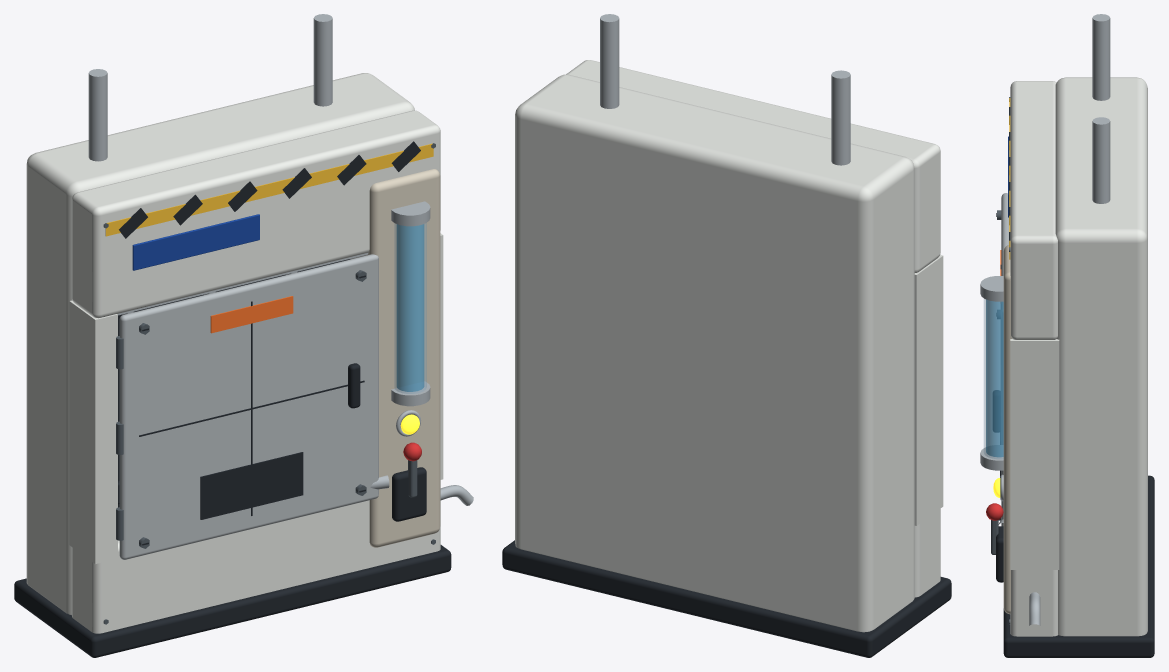
Rendered from water-recycler.glb.
3 views of the same model, side by side, from view 1: azimuth 30°, elevation 25°; view 2: azimuth 150°, elevation 25°; view 3: azimuth 270°, elevation 25° (orthographic). The views are drawn at different scales.
Visible parts, largest first — view 1: water-recycler-hull-white, access_panel-panel-grey, water-recycler-hull-cream, water-recycler-dark-polymer, water-recycler-aluminium, access_panel-dark-polymer, water-recycler-glass, flow_water-water, water-recycler-nasa-blue, water-recycler-hazard-yellow, access_panel-safety-orange, access_panel-dark-steel; view 2: water-recycler-hull-white, water-recycler-dark-polymer, water-recycler-aluminium; view 3: water-recycler-hull-white, water-recycler-dark-polymer, water-recycler-aluminium, water-recycler-glass, water-recycler-hull-cream, flow_water-water, access_panel-panel-grey, outlet-aluminium, access_panel-dark-polymer.
Boxes of the visible parts, x1,y1,x2,y2 form: water-recycler-hull-white: [26, 73, 443, 633]; access_panel-panel-grey: [119, 254, 378, 559]; water-recycler-hull-cream: [366, 169, 440, 547]; water-recycler-dark-polymer: [14, 141, 451, 657]; water-recycler-aluminium: [88, 14, 430, 489]; access_panel-dark-polymer: [139, 301, 364, 519]; water-recycler-glass: [394, 223, 426, 393]; flow_water-water: [396, 224, 424, 391]; water-recycler-nasa-blue: [132, 214, 259, 270]; water-recycler-hazard-yellow: [105, 143, 433, 236]; access_panel-safety-orange: [210, 296, 293, 333]; access_panel-dark-steel: [116, 336, 123, 540]; water-recycler-hull-white: [515, 60, 943, 632]; water-recycler-dark-polymer: [502, 540, 951, 657]; water-recycler-aluminium: [600, 14, 850, 165]; water-recycler-hull-white: [1010, 77, 1147, 636]; water-recycler-dark-polymer: [996, 107, 1154, 657]; water-recycler-aluminium: [980, 14, 1110, 524]; water-recycler-glass: [984, 299, 1003, 458]; water-recycler-hull-cream: [1003, 245, 1012, 614]; flow_water-water: [986, 299, 1003, 457]; access_panel-panel-grey: [1001, 193, 1009, 526]; outlet-aluminium: [1029, 592, 1040, 625]; access_panel-dark-polymer: [993, 265, 1001, 477].
Bounding box in the file's own units: 1.94 × 2.5 × 0.785.
